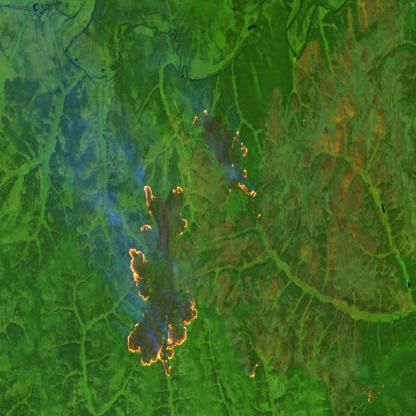fire: (124, 182, 200, 382), (225, 124, 259, 204), (189, 105, 212, 131), (244, 358, 261, 380)
